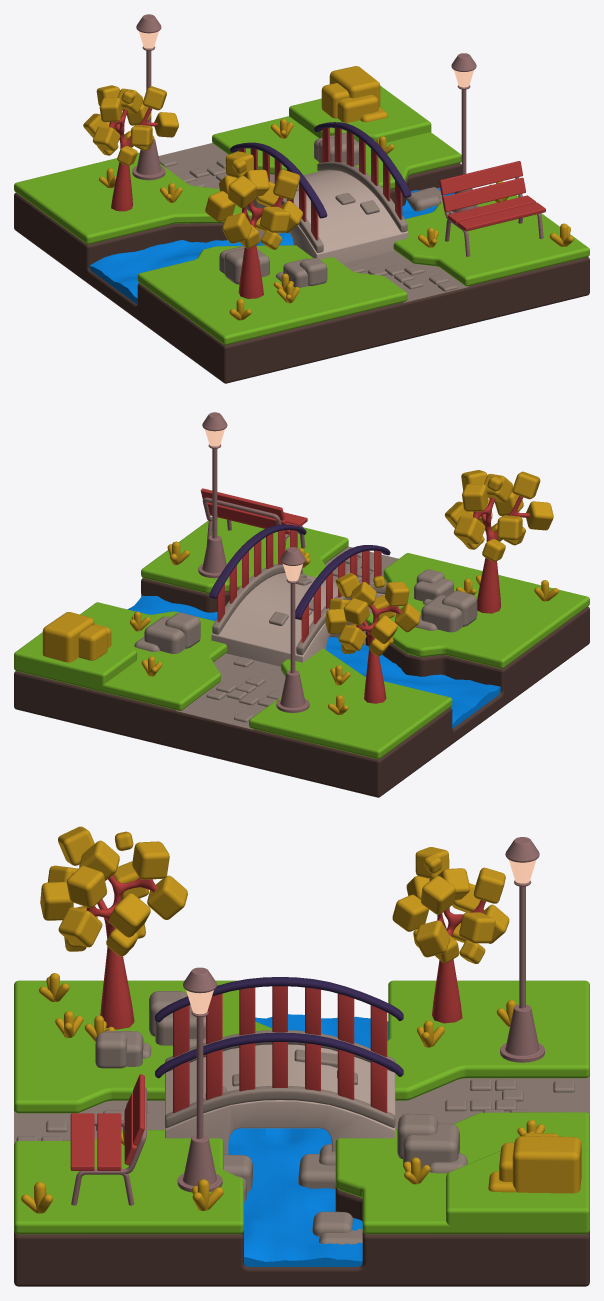
The model's file is park.glb.
3 views of the same model, one above another, from view 1: azimuth 30°, elevation 25°; view 2: azimuth 150°, elevation 25°; view 3: azimuth 270°, elevation 25° (orthographic). The views are drawn at different scales.
Visible parts, largest first — view 1: GrassPlane, Ground, Сrown, Bench, BridgeTop, Crown, Water, Path, Rocks, GrassHill, Bush, BridgeRails (+9 smaller); view 2: GrassPlane, Ground, Сrown, Rocks, Crown, Water, BridgeTop, Path, GrassHill, BridgeRails, Bush, Tile (+10 smaller); view 3: GrassPlane, Ground, Water, Сrown, BridgeRails, Rocks, Crown, GrassHill, Path, Bridge, Bush, BridgeRailsTop (+10 smaller).
Boxes of the visible parts, left/top/right/bottom form: GrassPlane: left=14, top=116, right=589, bottom=345; Ground: left=14, top=163, right=589, bottom=383; Сrown: left=205, top=151, right=302, bottom=249; Bench: left=439, top=161, right=545, bottom=231; BridgeTop: left=294, top=170, right=407, bottom=253; Crown: left=83, top=85, right=178, bottom=165; Water: left=89, top=187, right=454, bottom=304; Path: left=158, top=143, right=468, bottom=302; Rocks: left=219, top=133, right=442, bottom=287; GrassHill: left=289, top=86, right=431, bottom=144; Bush: left=321, top=66, right=388, bottom=122; BridgeRails: left=238, top=127, right=402, bottom=240; GrassPlane: left=14, top=517, right=589, bottom=759; Ground: left=14, top=578, right=589, bottom=797; Сrown: left=444, top=470, right=553, bottom=561; Rocks: left=134, top=569, right=477, bottom=653; Crown: left=325, top=573, right=420, bottom=656; Water: left=127, top=595, right=500, bottom=728; BridgeTop: left=213, top=573, right=383, bottom=655; Path: left=176, top=546, right=398, bottom=729; GrassHill: left=14, top=621, right=136, bottom=691; BridgeRails: left=217, top=530, right=381, bottom=642; Bush: left=42, top=612, right=111, bottom=662; Tile: left=206, top=552, right=373, bottom=722; GrassPlane: left=14, top=980, right=589, bottom=1234; Ground: left=14, top=1075, right=589, bottom=1286; Water: left=228, top=1014, right=388, bottom=1266; Сrown: left=40, top=826, right=187, bottom=956; BridgeRails: left=173, top=986, right=387, bottom=1112; Rocks: left=95, top=991, right=467, bottom=1244; Crown: left=392, top=847, right=509, bottom=963; GrassHill: left=446, top=1150, right=589, bottom=1234; Path: left=14, top=1076, right=589, bottom=1144; Bridge: left=165, top=1072, right=395, bottom=1154; Bush: left=488, top=1133, right=581, bottom=1193; BridgeRailsTop: left=155, top=977, right=403, bottom=1078.
Size of the model in its own units: 8 by 4.26 by 8.
